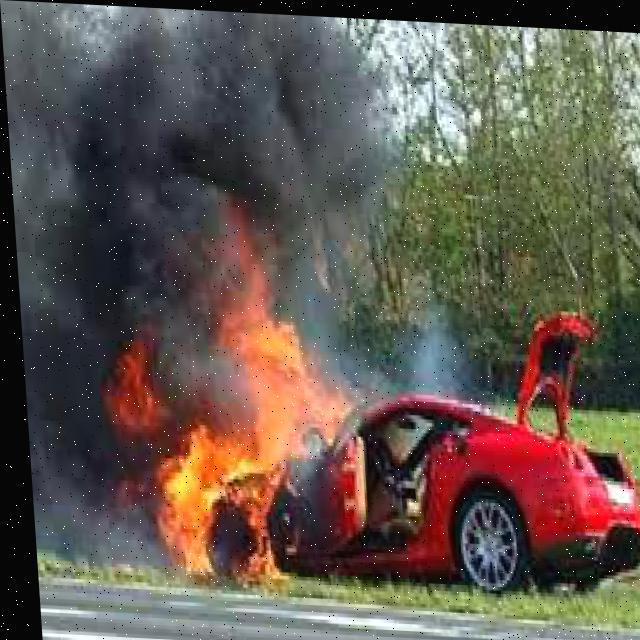Fire: (85, 203, 404, 616)
